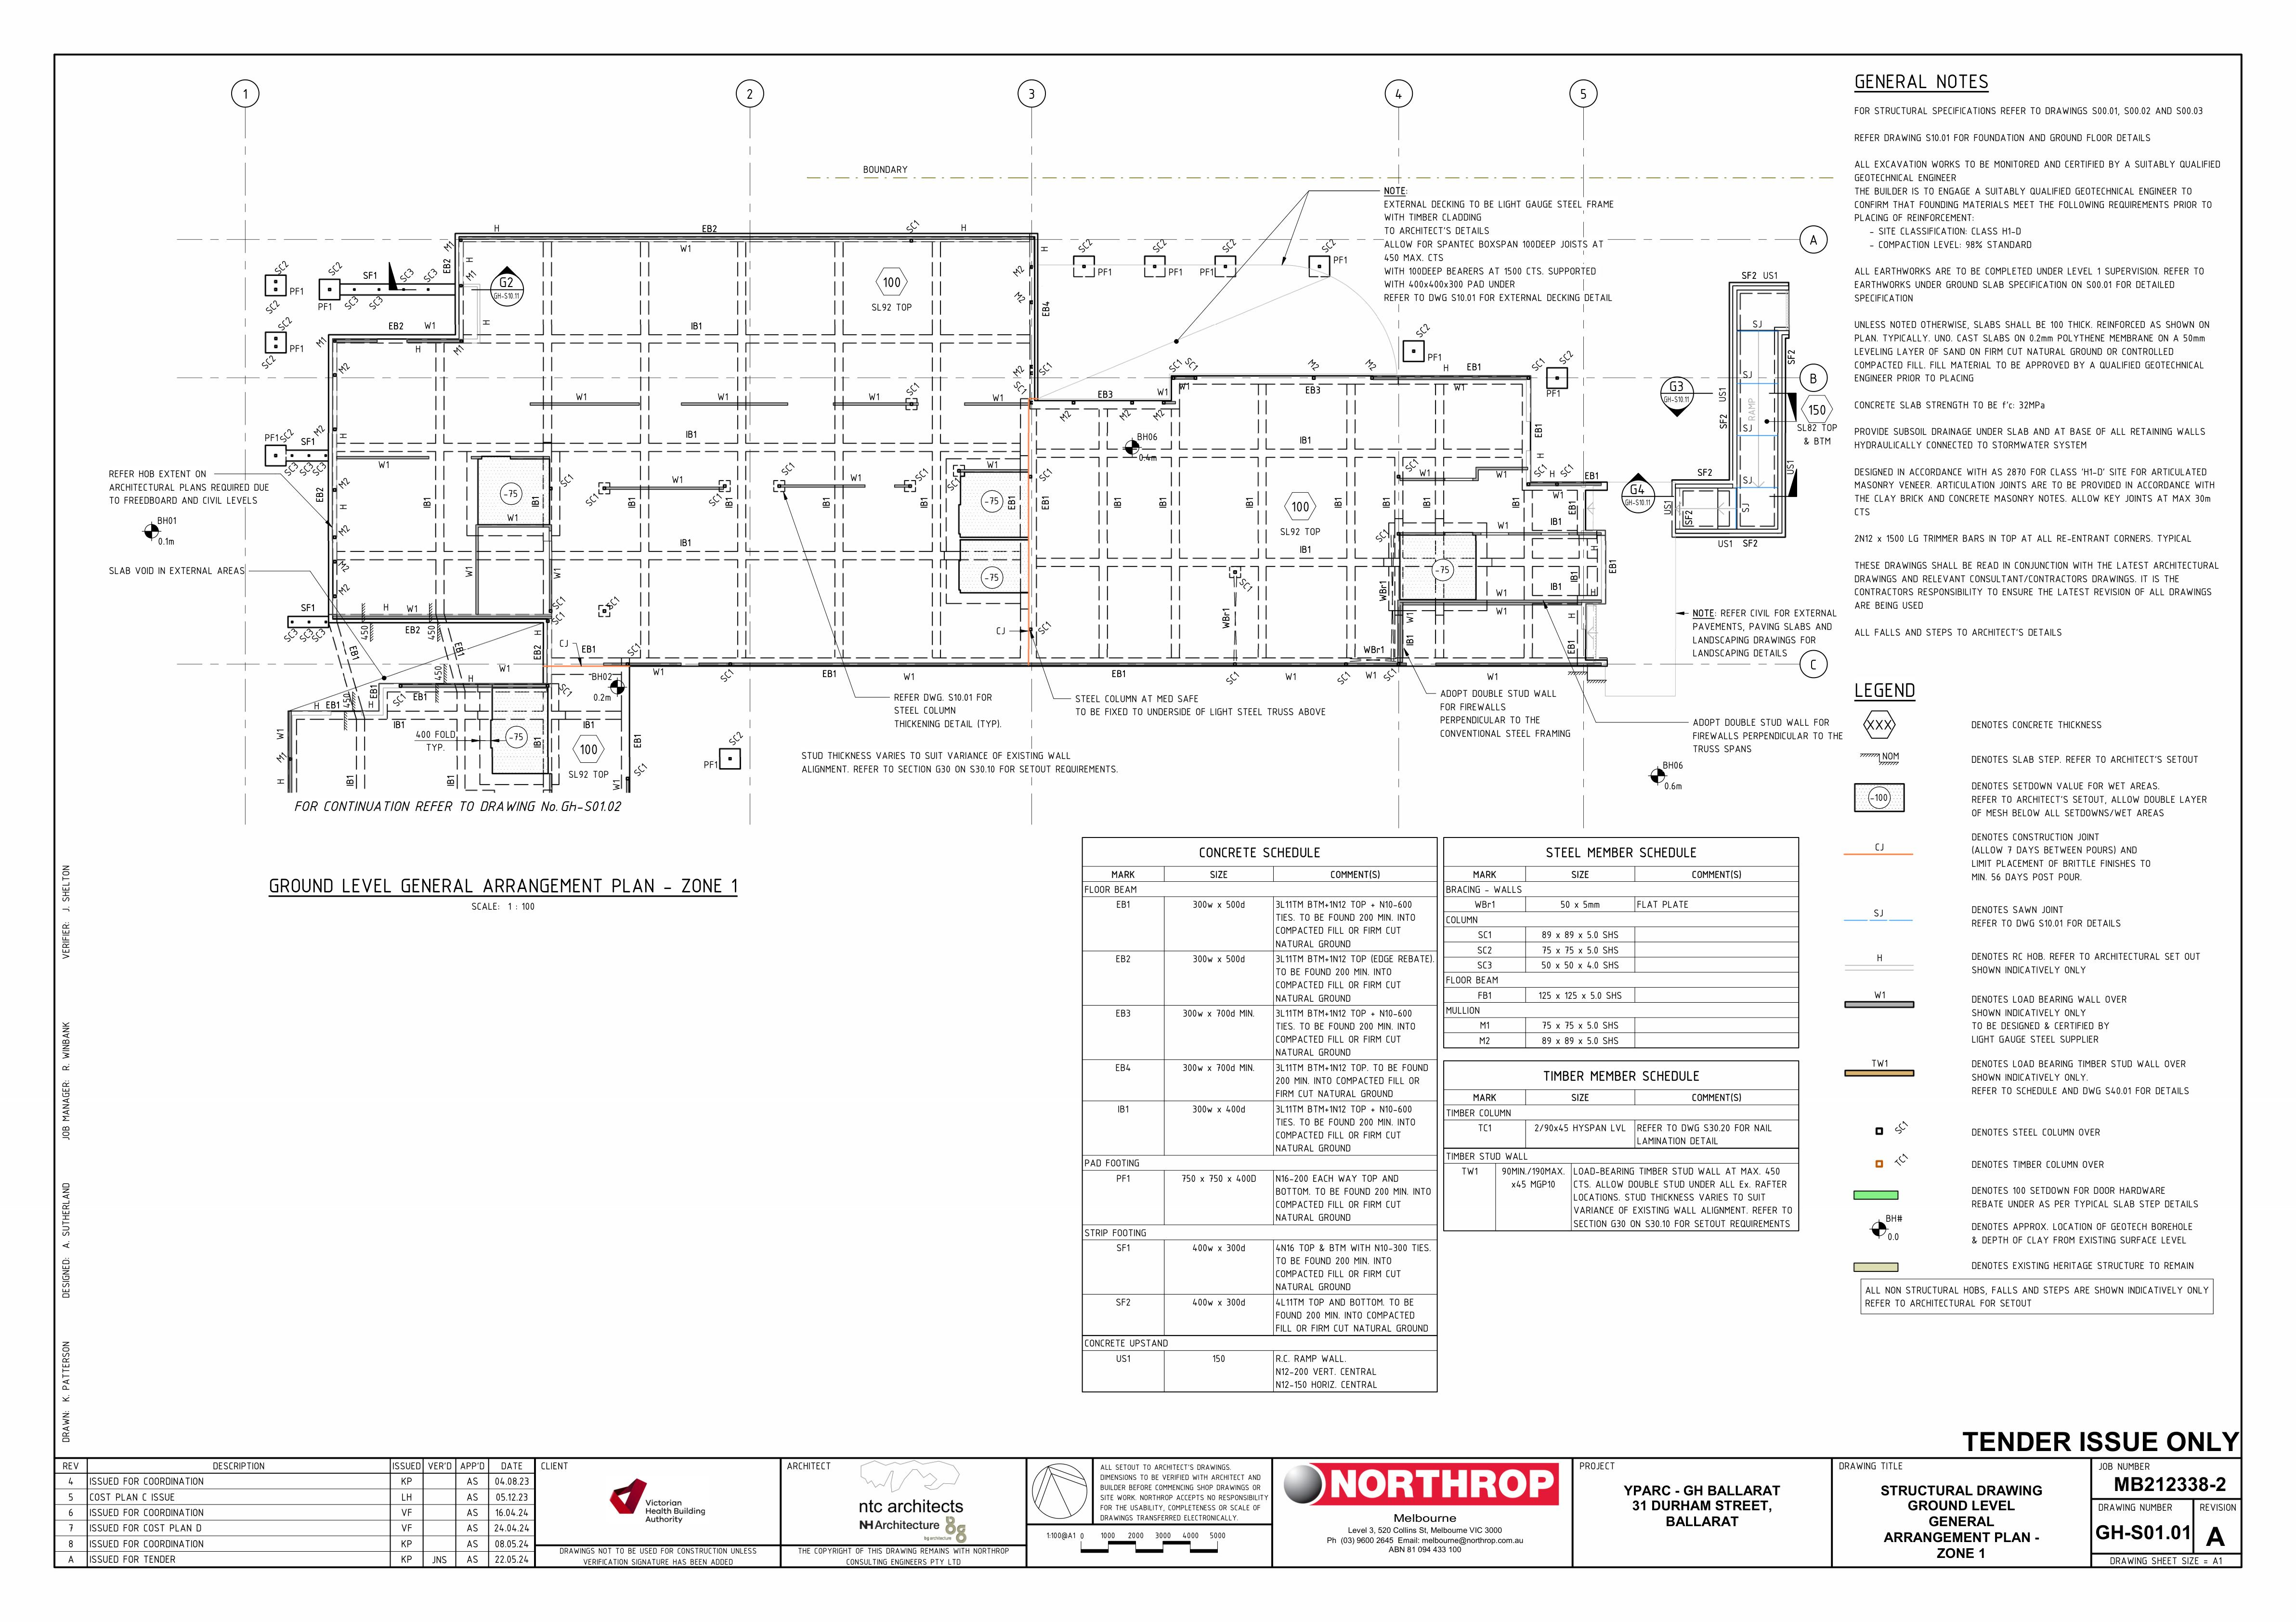BH02: (590, 671, 614, 683)
BH06: (1136, 428, 1162, 442)
EB1: (818, 667, 843, 683), (1109, 667, 1132, 683), (1529, 418, 1545, 439), (1004, 492, 1018, 513), (1467, 358, 1485, 374), (451, 641, 467, 658), (630, 732, 646, 750), (1037, 493, 1051, 513), (1566, 499, 1580, 518), (1582, 469, 1601, 483), (1564, 637, 1578, 655), (346, 646, 362, 660), (413, 690, 430, 702), (369, 683, 381, 700), (325, 699, 339, 711), (579, 644, 599, 653), (1610, 556, 1618, 574)
EB2: (383, 318, 409, 334), (441, 258, 456, 276), (402, 625, 423, 635), (314, 486, 326, 504), (700, 221, 716, 232), (534, 644, 542, 660)
EB3: (1097, 384, 1116, 400), (1299, 383, 1320, 395)
EB4: (1039, 295, 1057, 319)
IB1: (683, 312, 709, 334), (1239, 493, 1259, 514), (683, 428, 704, 444), (816, 492, 830, 514), (1406, 630, 1420, 650), (1297, 542, 1318, 555), (627, 495, 642, 511), (1417, 495, 1432, 511), (678, 530, 692, 548), (342, 772, 358, 786), (418, 495, 434, 509), (528, 493, 544, 507), (1109, 497, 1123, 511), (1157, 493, 1169, 509), (1378, 495, 1390, 511), (1508, 493, 1520, 509), (1546, 579, 1562, 592), (579, 718, 597, 728), (918, 495, 929, 513), (391, 720, 409, 730), (444, 772, 456, 786), (727, 495, 739, 509), (1331, 493, 1343, 507), (1548, 516, 1564, 527), (1299, 434, 1311, 446), (1566, 571, 1578, 583), (534, 736, 541, 751)
M1: (448, 342, 465, 358), (274, 751, 288, 764), (441, 240, 455, 251), (465, 269, 477, 279), (316, 335, 326, 348)
M2: (1015, 290, 1030, 309), (1304, 355, 1322, 370), (1008, 362, 1023, 377), (339, 523, 356, 537), (1058, 409, 1076, 423), (1150, 407, 1167, 421), (335, 363, 356, 374), (1364, 356, 1378, 372), (1009, 263, 1023, 277), (1116, 407, 1130, 421), (337, 560, 353, 572), (311, 423, 328, 434), (339, 585, 355, 595), (339, 476, 349, 488)
PF1: (286, 341, 307, 358), (1329, 253, 1350, 265), (1545, 384, 1562, 398), (284, 284, 307, 295), (700, 760, 720, 772), (316, 302, 335, 312), (260, 432, 279, 442), (1099, 265, 1115, 277), (1429, 349, 1445, 362), (1167, 267, 1185, 277), (1199, 267, 1215, 277)
SC1: (558, 472, 581, 488), (548, 611, 570, 627), (1185, 355, 1202, 374), (913, 465, 932, 483), (1034, 360, 1055, 376), (1527, 356, 1546, 372), (1338, 671, 1357, 686), (606, 593, 621, 613), (1401, 456, 1420, 472), (1034, 618, 1051, 634), (1239, 578, 1255, 595), (1009, 379, 1029, 393), (630, 764, 649, 778), (556, 685, 576, 699), (1167, 356, 1183, 372), (720, 667, 735, 683), (1383, 667, 1399, 683), (585, 493, 600, 509), (904, 218, 922, 232), (779, 462, 797, 476), (551, 595, 570, 607), (1225, 671, 1241, 685), (946, 476, 962, 490), (706, 492, 721, 506), (627, 641, 641, 657), (391, 692, 405, 706), (1039, 467, 1053, 481), (1561, 465, 1575, 479), (908, 379, 918, 397), (1374, 532, 1392, 542), (1532, 465, 1546, 477)
SC2: (323, 255, 346, 277), (1555, 348, 1576, 365), (274, 258, 293, 276), (1152, 235, 1169, 255), (1320, 233, 1338, 253), (277, 425, 295, 442), (277, 314, 297, 330), (1076, 233, 1092, 253), (728, 727, 744, 746), (1220, 237, 1236, 253), (258, 355, 276, 369), (267, 298, 283, 312), (1415, 321, 1431, 335)
SC3: (398, 263, 416, 279), (342, 293, 360, 309), (311, 627, 326, 644), (369, 295, 386, 309), (312, 462, 326, 476), (423, 269, 437, 281), (302, 462, 314, 476), (284, 627, 298, 639), (300, 630, 314, 642), (286, 463, 298, 476)
SF1: (298, 600, 318, 614), (363, 267, 381, 281), (300, 435, 316, 448)
SF2: (1694, 463, 1718, 479), (1740, 535, 1762, 549), (1783, 346, 1797, 369), (1740, 267, 1759, 283), (1680, 506, 1694, 525), (1718, 411, 1731, 428)
SJ: (1740, 499, 1754, 518), (1738, 472, 1754, 486), (1754, 318, 1768, 330), (1740, 367, 1754, 379), (1743, 421, 1757, 434)
US1: (1761, 265, 1782, 281), (1783, 458, 1797, 477), (1713, 535, 1731, 549), (1717, 383, 1727, 404), (1661, 499, 1671, 518)
W1: (421, 318, 442, 334), (906, 669, 922, 685)
WBR1: (1216, 604, 1234, 628), (1373, 578, 1388, 602), (1362, 644, 1388, 655)
